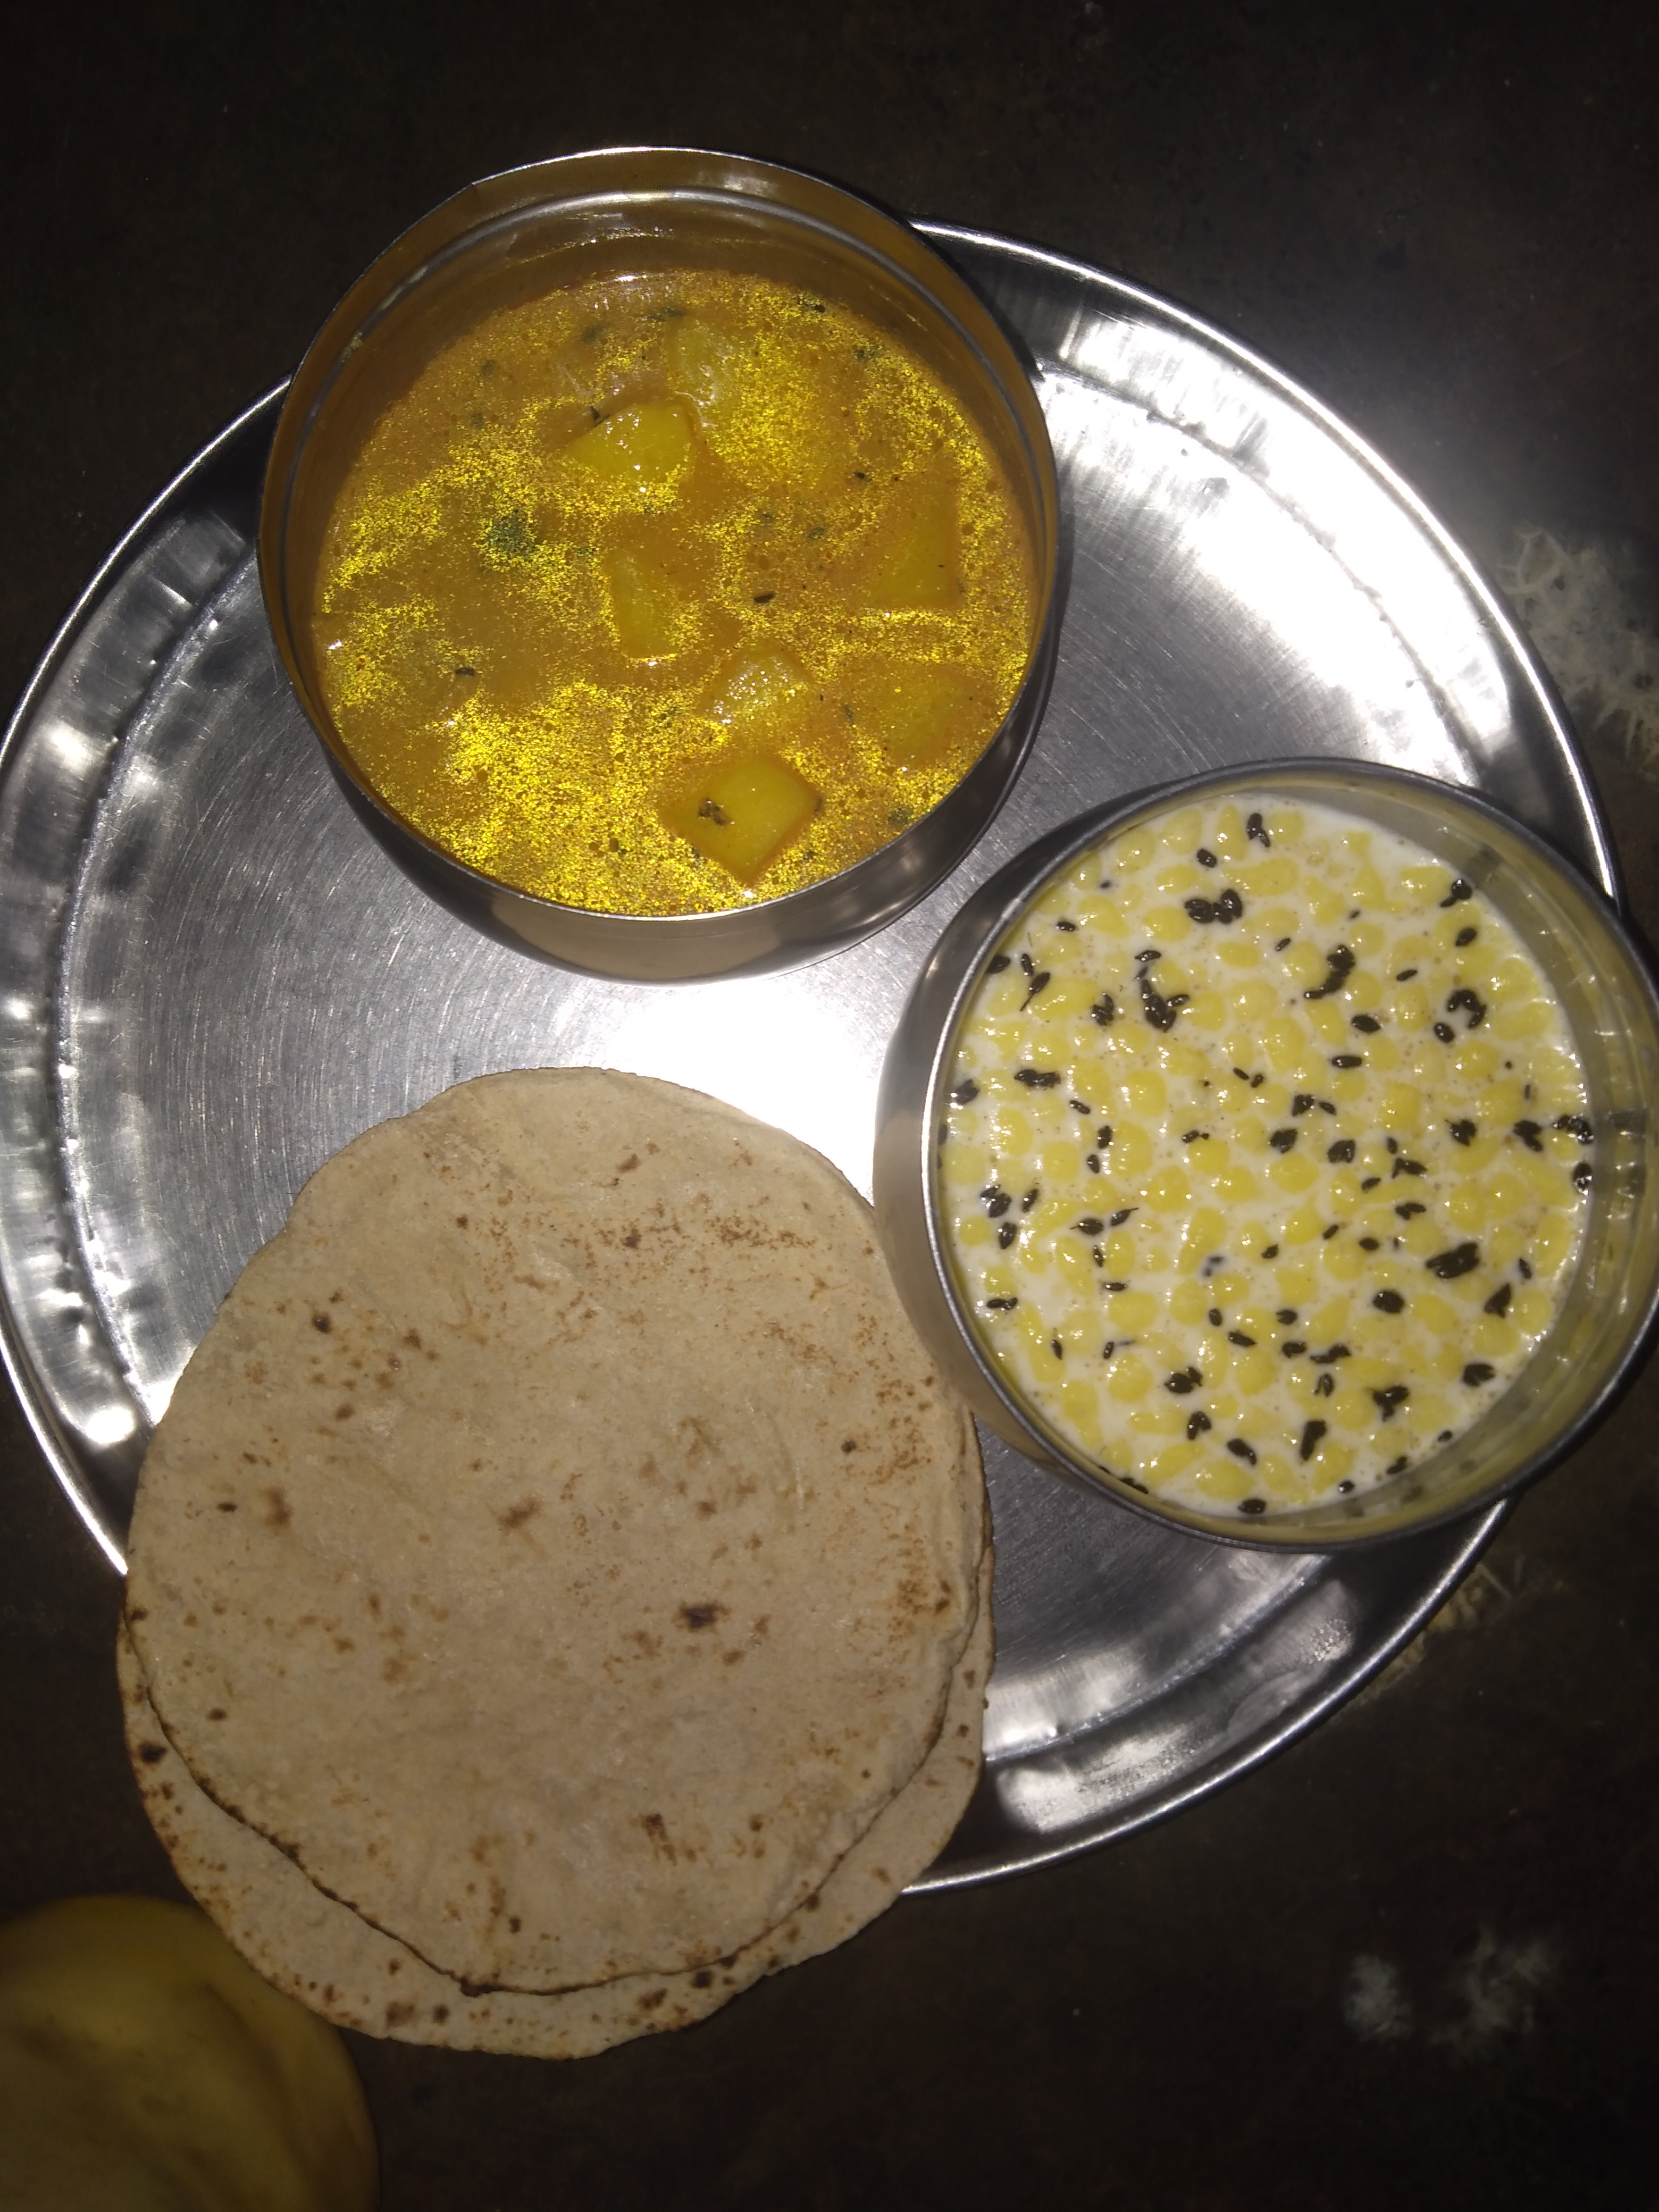food: (101, 253, 1622, 2066)
